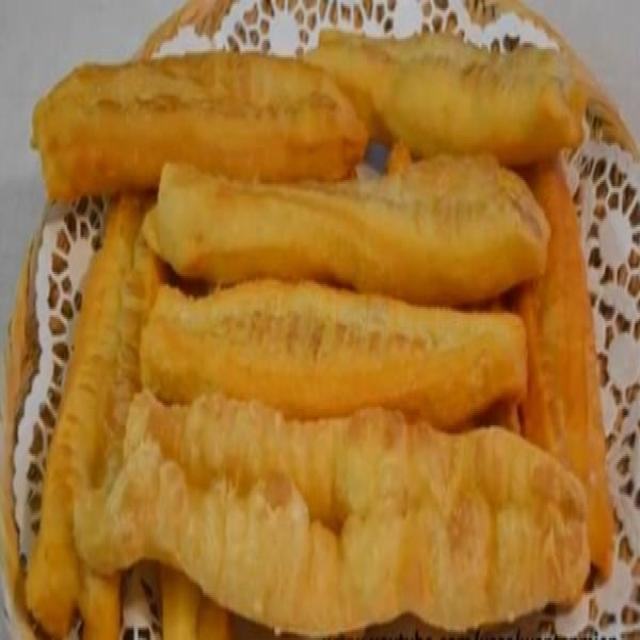炸货点心: (21, 22, 593, 620)
